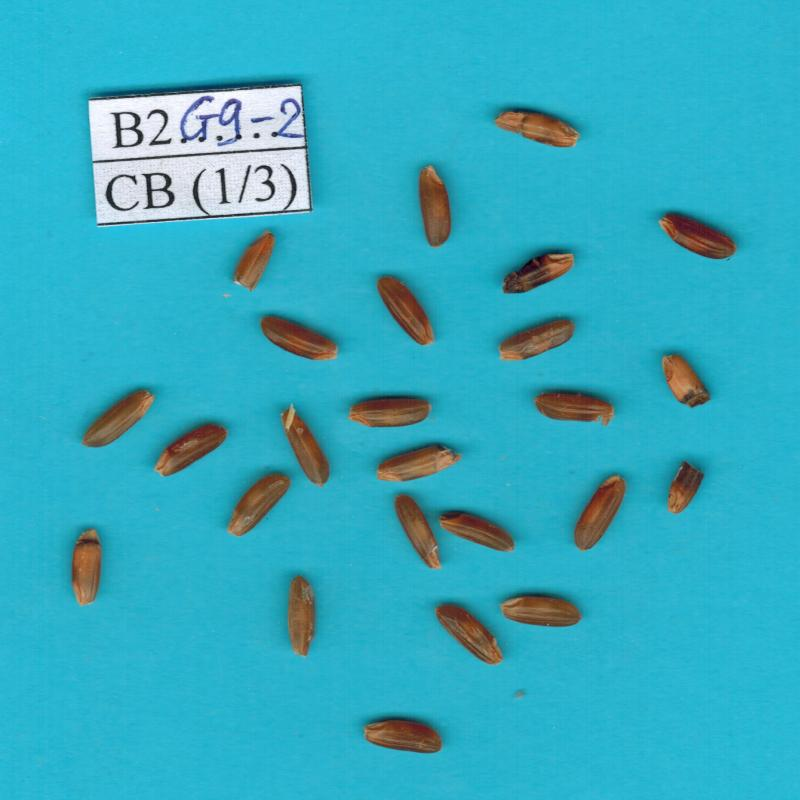Break: (232, 231, 275, 291), (667, 461, 704, 514)
Inferior: (281, 404, 329, 486), (494, 111, 581, 147), (377, 445, 462, 481), (502, 253, 574, 294), (662, 354, 710, 408), (72, 529, 102, 606), (287, 575, 315, 656)
Rice: (82, 389, 155, 447), (436, 604, 503, 665), (574, 475, 626, 551), (377, 277, 434, 345), (155, 424, 228, 477), (227, 476, 290, 536), (658, 214, 738, 259), (395, 495, 441, 569), (261, 317, 338, 360), (498, 319, 575, 360), (440, 511, 515, 552), (365, 720, 442, 754), (419, 166, 451, 247), (501, 596, 582, 627), (349, 398, 432, 428), (534, 394, 613, 422)
